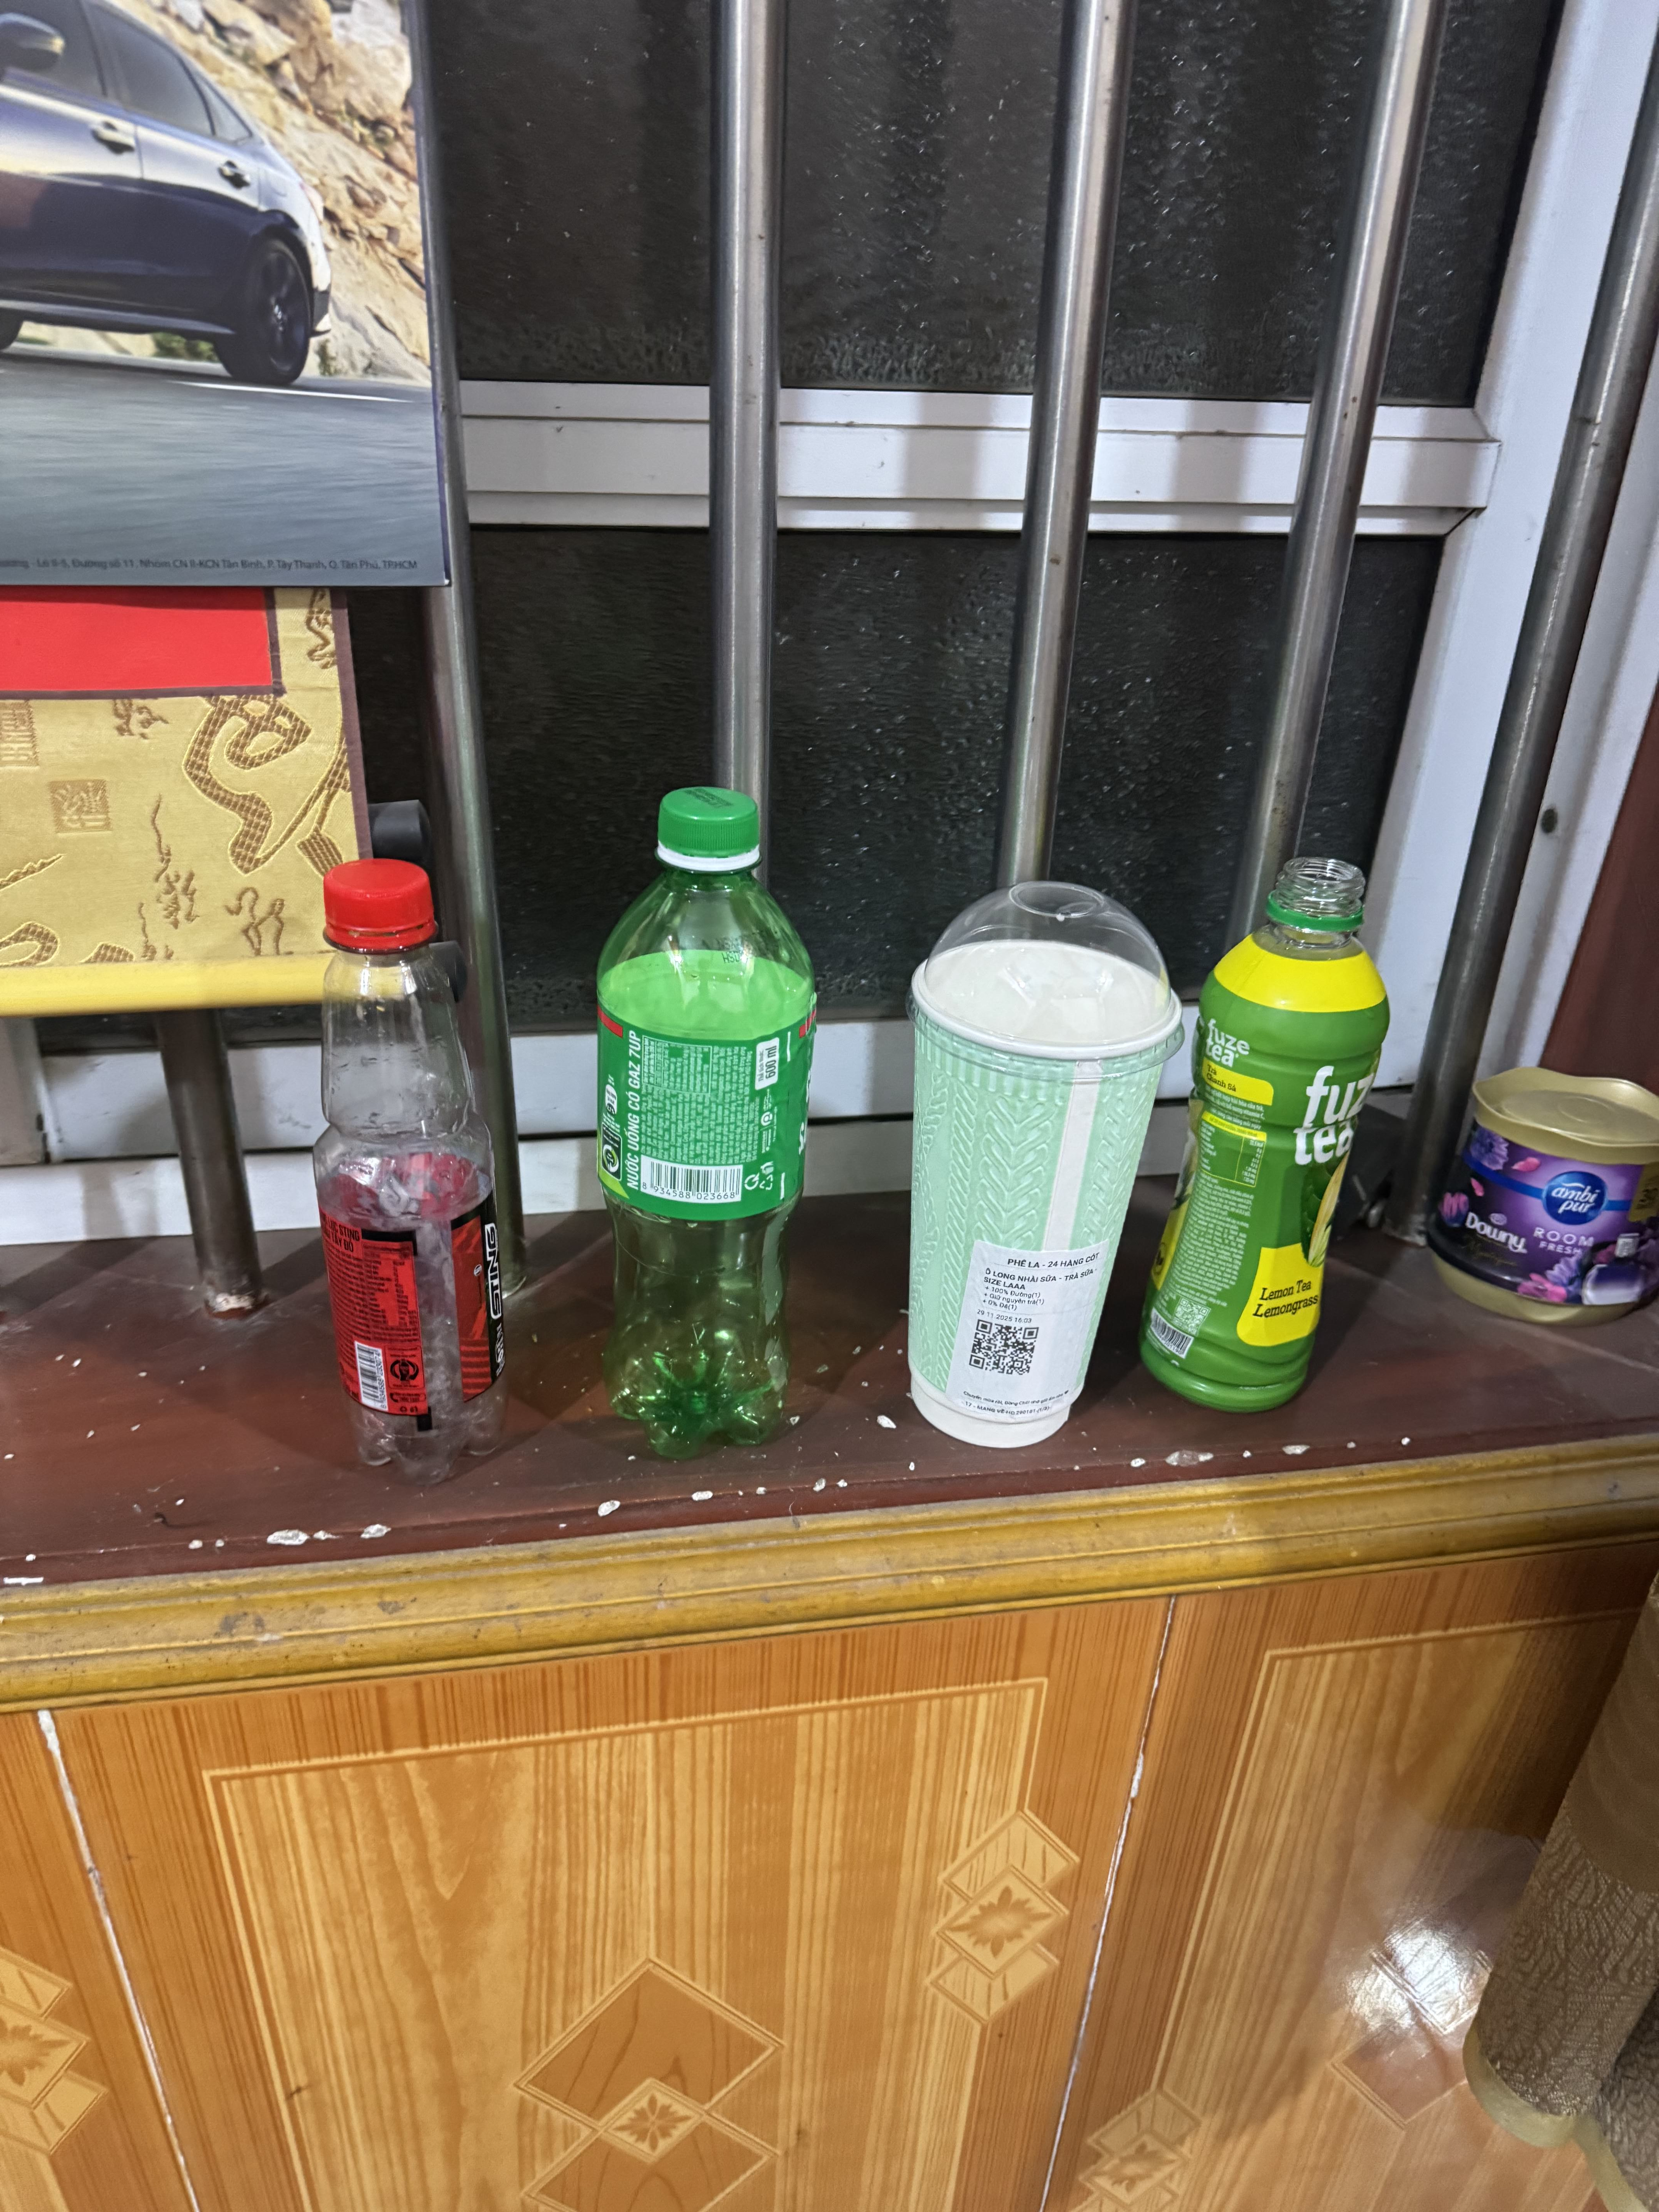2: (880, 840, 1183, 1519)
bottle: (566, 765, 856, 1477), (1127, 829, 1425, 1432), (275, 838, 537, 1493)
